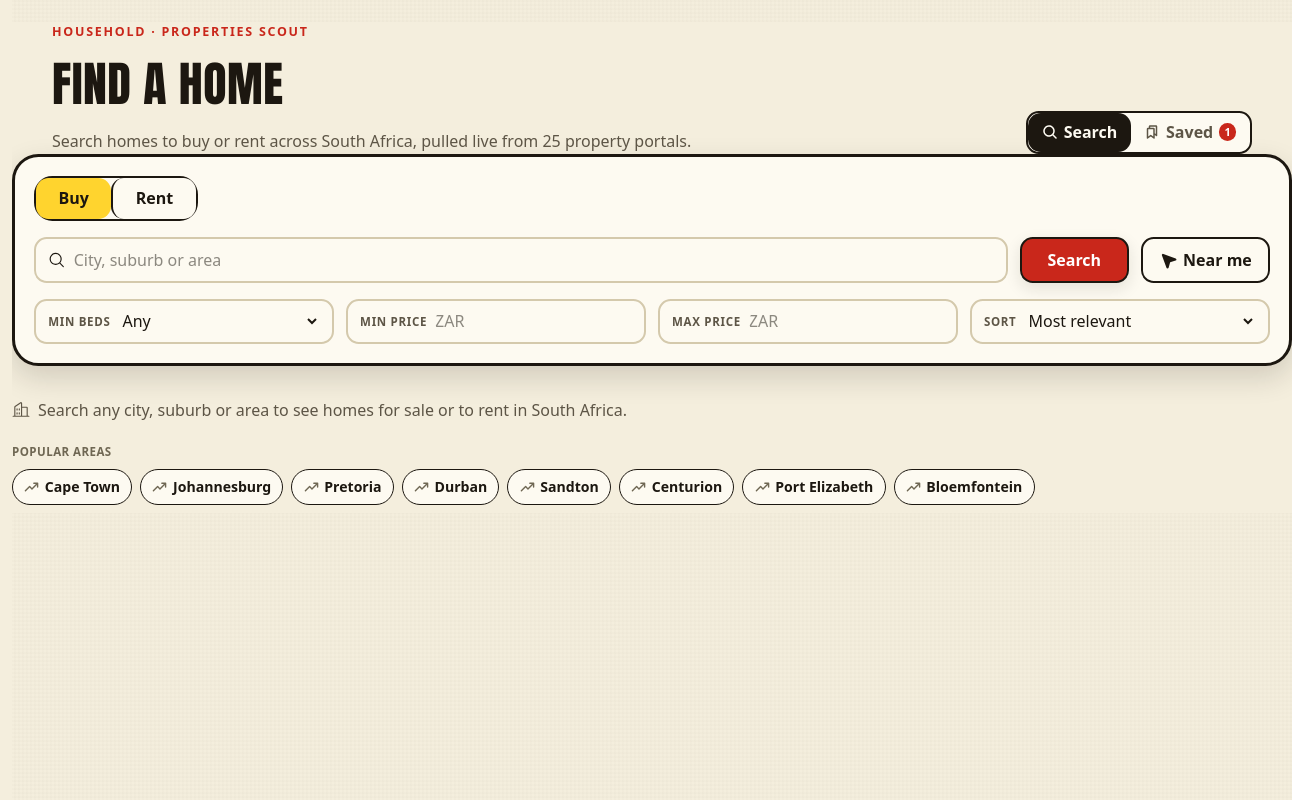
Test case: PropertiesView saved homes › shows a saved home with a swipeable gallery and toggles off
// Switch to the Saved view.
Step 1. Click the tab "Saved 1" → (1190, 132), box [1131,112,1250,152]
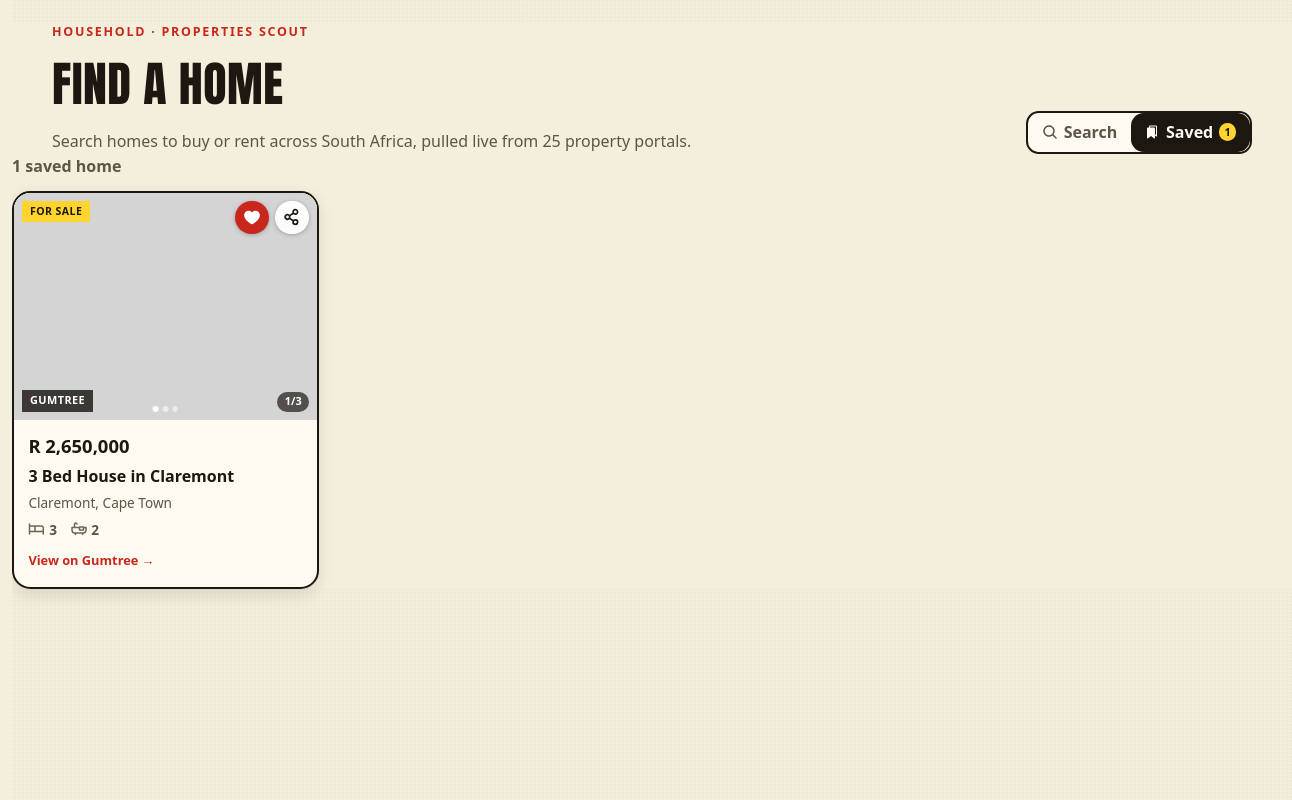
expect the text "1 saved home" is shown: met, box [12,155,121,177]
expect the link "3 Bed House in Claremont" is shown: met, box [28,465,234,487]
expect the text named "3 bedrooms" is shown: met, box [49,519,57,540]
Step 2. Click the button named "Remove from saved" → (252, 217), box [235,200,269,234]
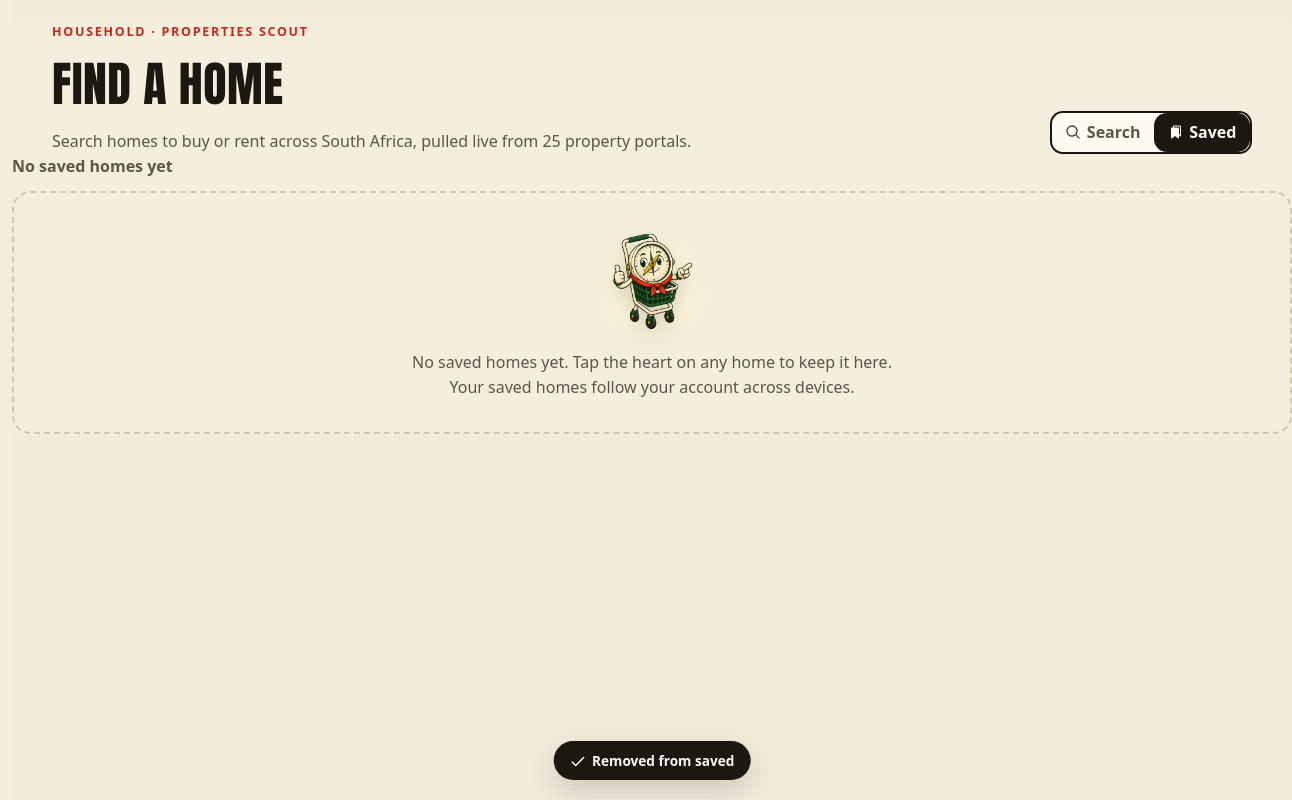
expect the text "No saved homes yet" is shown: met, box [12,155,173,177]
